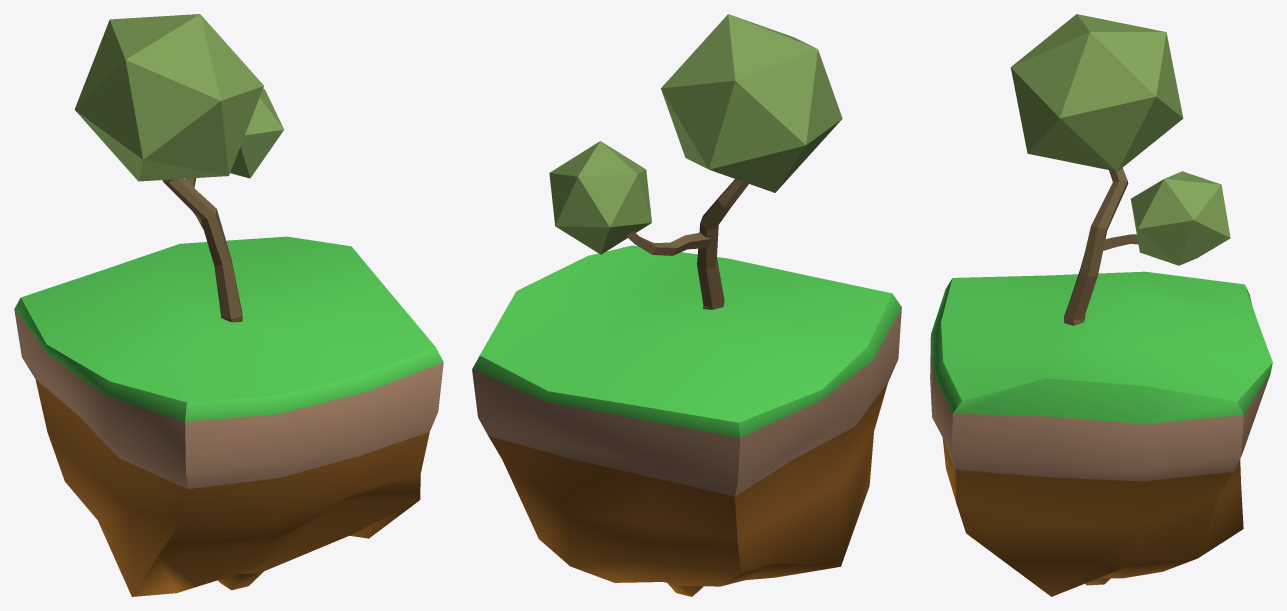
Rendered from Plant_Final_HowPlant.fbx.
3 views of the same model, side by side, from view 1: azimuth 30°, elevation 25°; view 2: azimuth 150°, elevation 25°; view 3: azimuth 270°, elevation 25° (orthographic). The views are drawn at different scales.
Parts seen in each view (by area): view 1: Ground1, Plant_Final; view 2: Ground1, Plant_Final; view 3: Ground1, Plant_Final.
Boxes of the visible parts, x1=… form: Ground1: x1=14, y1=236, x2=443, y2=596; Plant_Final: x1=74, y1=14, x2=284, y2=322; Ground1: x1=472, y1=245, x2=901, y2=596; Plant_Final: x1=549, y1=14, x2=842, y2=309; Ground1: x1=930, y1=271, x2=1272, y2=596; Plant_Final: x1=1010, y1=14, x2=1230, y2=325.
Size of the model in its own units: 2.95 by 5.14 by 3.
